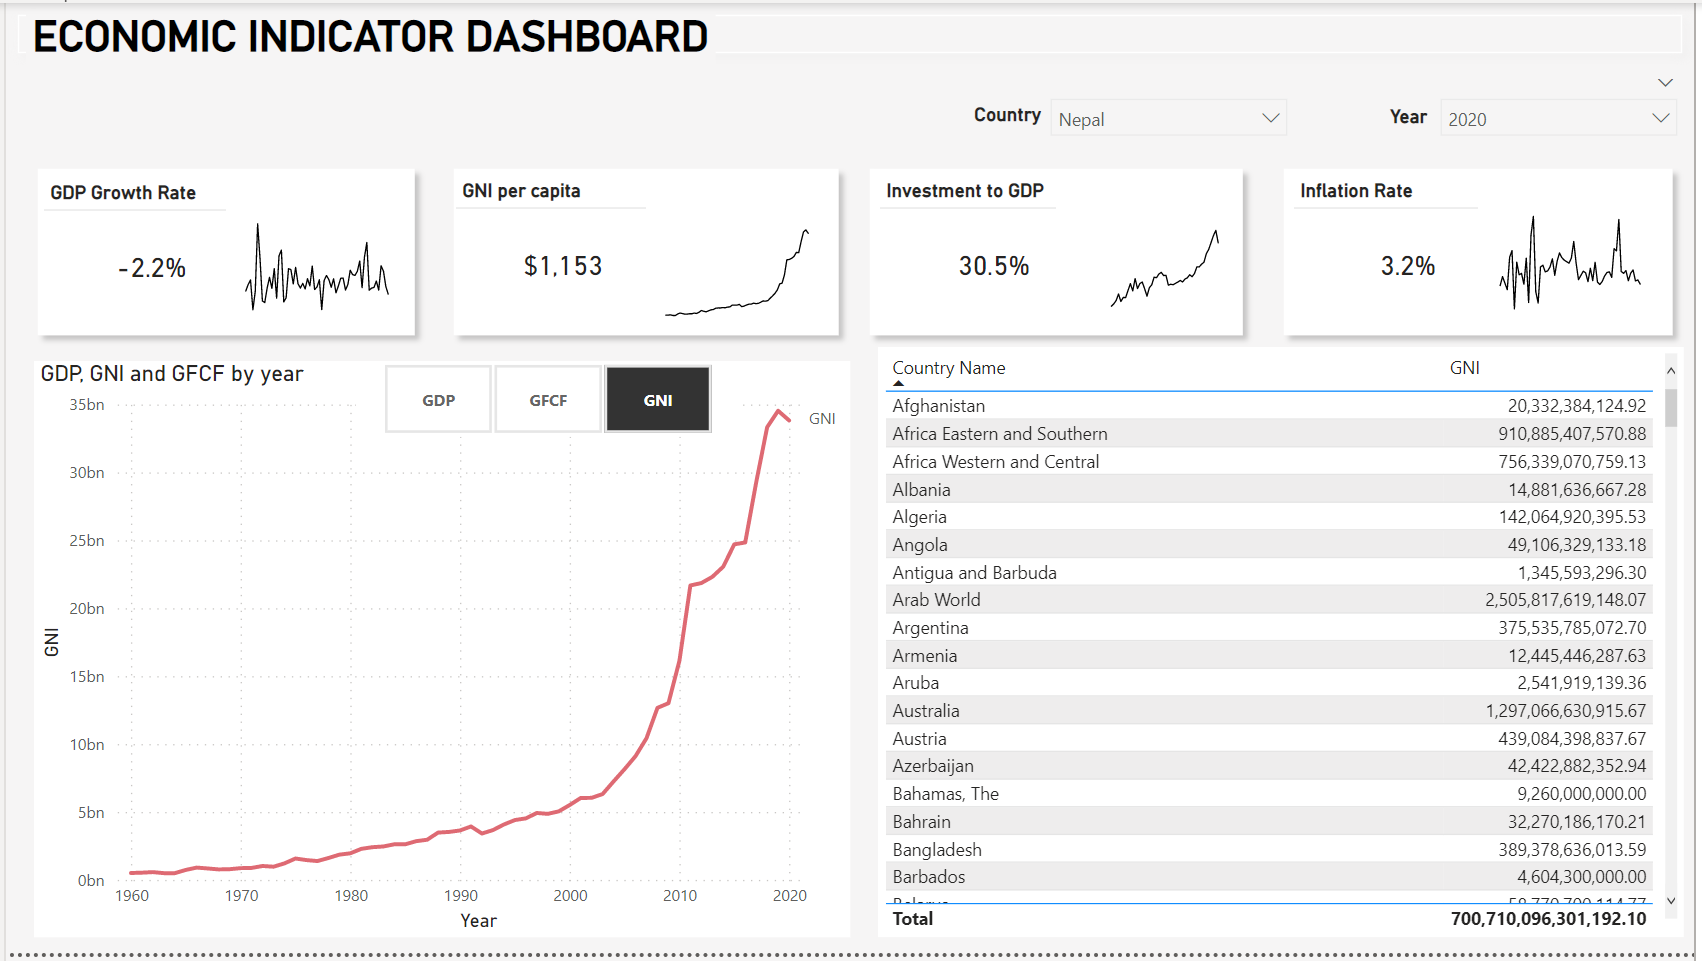

The page's visual inventory and layout, read from the dashboard file:
{"tool":"powerbi","page":{"name":"Economic indicator Dashboard","canvas":[1280,720],"ordinal":1},"visuals":[{"type":"shape","box":[0,0,1280,47],"z":0},{"type":"shape","box":[15.2,116.8,303.3,144.1],"z":1000},{"type":"textbox","title":"ECONOMIC INDICATOR DASHBOARD","box":[15.2,6.1,523.2,40.9],"z":3000},{"type":"card","title":"GDP Growth Rate","fields":{"Values":["Economic Indicators.GDP growth rate"]},"box":[28.8,135,162.3,107.7],"z":5000},{"type":"shape","box":[330.6,116.8,309.4,144.1],"z":6000},{"type":"shape","box":[646.1,116.8,300.3,144.1],"z":7000},{"type":"shape","box":[960,116.8,312.4,144.1],"z":8000},{"type":"slicer","fields":{"Values":["Economic Indicators.Country Name"]},"box":[787.1,57.6,189.6,60.7],"z":9000},{"type":"slicer","fields":{"Values":["Date.Year"]},"box":[1082.8,57.6,189.6,59.1],"z":10000},{"type":"lineChart","fields":{"Category":["Date.Year"],"Y":["Economic Indicators.GDP growth rate"]},"box":[166.8,141,138,104.6],"z":11000},{"type":"card","title":"GNI per capita","fields":{"Values":["Economic Indicators.GNI per capita"]},"box":[341.2,133.5,162.3,107.7],"z":12000},{"type":"lineChart","fields":{"Category":["Date.Year"],"Y":["Economic Indicators.GNI per capita"]},"box":[485.3,141,138,104.6],"z":13000},{"type":"card","title":"Investment to GDP","fields":{"Values":["Economic Indicators.Investment to GDP ratio"]},"box":[662.7,133.5,172.9,107.7],"z":14000},{"type":"lineChart","fields":{"Category":["Date.Year"],"Y":["Economic Indicators.Investment to GDP ratio"]},"box":[796.2,141,138,104.6],"z":15000},{"type":"card","title":"Inflation Rate","fields":{"Values":["Economic Indicators.Inflation rate"]},"box":[976.7,133.5,172.9,107.7],"z":16000},{"type":"lineChart","fields":{"Category":["Date.Year"],"Y":["Economic Indicators.Inflation rate"]},"box":[1116.2,142.6,138,104.6],"z":17000},{"type":"textbox","title":"Country","box":[705.2,75.8,84.9,19.7],"z":18000},{"type":"textbox","title":"Year","box":[997.9,77.3,84.9,19.7],"z":19000},{"type":"lineChart","title":"GDP, GNI and GFCF by year","fields":{"Y":["Economic Indicators.GNI chart"],"Category":["Date.Year"]},"box":[21.2,271.5,618.8,436.8],"z":20000},{"type":"slicer","fields":{"Values":["Comparision.Comparision"]},"box":[265.4,271.5,289.7,57.6],"z":21000},{"type":"tableEx","fields":{"Values":["Economic Indicators.Country Name","Economic Indicators.GNI chart"]},"box":[661.2,260.9,611.2,447.4],"z":21001}]}

Visuals, with their boxes in screenshot pixels (x1, y1, x2, y2), scaled from the page's 1280x720 canvas onto the 1702x961 screenshot:
shape: (x1=0, y1=0, x2=1701, y2=63)
shape: (x1=20, y1=156, x2=424, y2=348)
"ECONOMIC INDICATOR DASHBOARD" textbox: (x1=20, y1=8, x2=716, y2=63)
"GDP Growth Rate" card: (x1=38, y1=180, x2=254, y2=324)
shape: (x1=440, y1=156, x2=851, y2=348)
shape: (x1=859, y1=156, x2=1258, y2=348)
shape: (x1=1276, y1=156, x2=1692, y2=348)
slicer - Economic Indicators.Country Name: (x1=1047, y1=77, x2=1299, y2=158)
slicer - Date.Year: (x1=1440, y1=77, x2=1692, y2=156)
lineChart - Date.Year x Economic Indicators.GDP growth rate: (x1=222, y1=188, x2=405, y2=328)
"GNI per capita" card: (x1=454, y1=178, x2=669, y2=322)
lineChart - Date.Year x Economic Indicators.GNI per capita: (x1=645, y1=188, x2=829, y2=328)
"Investment to GDP" card: (x1=881, y1=178, x2=1111, y2=322)
lineChart - Date.Year x Economic Indicators.Investment to GDP ratio: (x1=1059, y1=188, x2=1242, y2=328)
"Inflation Rate" card: (x1=1299, y1=178, x2=1529, y2=322)
lineChart - Date.Year x Economic Indicators.Inflation rate: (x1=1484, y1=190, x2=1668, y2=330)
"Country" textbox: (x1=938, y1=101, x2=1051, y2=127)
"Year" textbox: (x1=1327, y1=103, x2=1440, y2=129)
"GDP, GNI and GFCF by year" lineChart: (x1=28, y1=362, x2=851, y2=945)
slicer - Comparision.Comparision: (x1=353, y1=362, x2=738, y2=439)
tableEx - Economic Indicators.Country Name x Economic Indicators.GNI chart: (x1=879, y1=348, x2=1692, y2=945)
